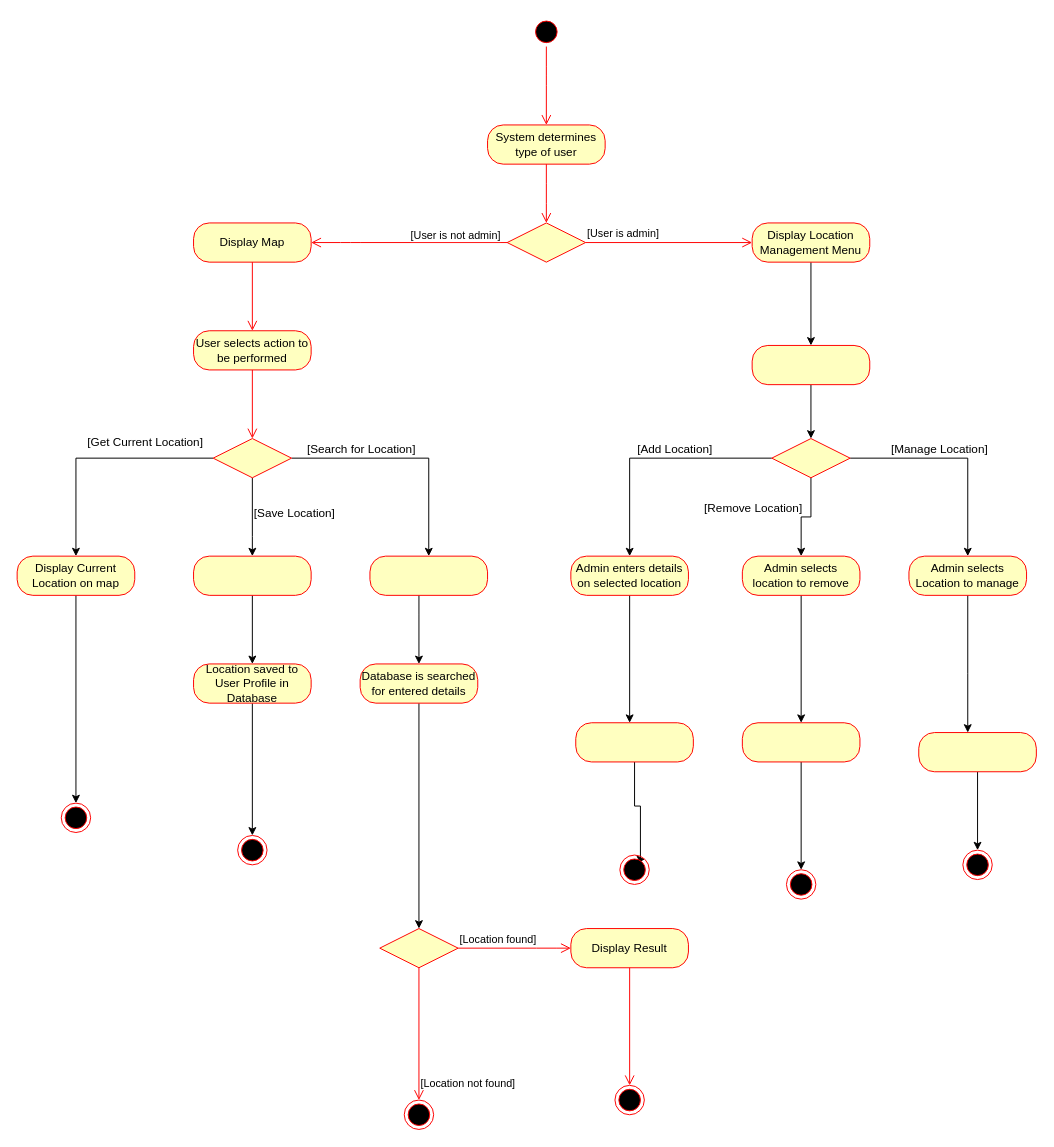
Image size: 1054x1147. Some labels were removed from this diagram. The shapes that lost their labels are listed below. From the top down, each one's centre as x and y in pixels, then its label:
At (810,364): "Admin selects action to be performed".
At (252,575): "User selects Location by dropping pin".
At (428,575): "User enters partial details of Location".
At (634,742): "Location is saved in database".
At (800,742): "Location is removed from database".
At (977,752): "Location details is modified on database".
